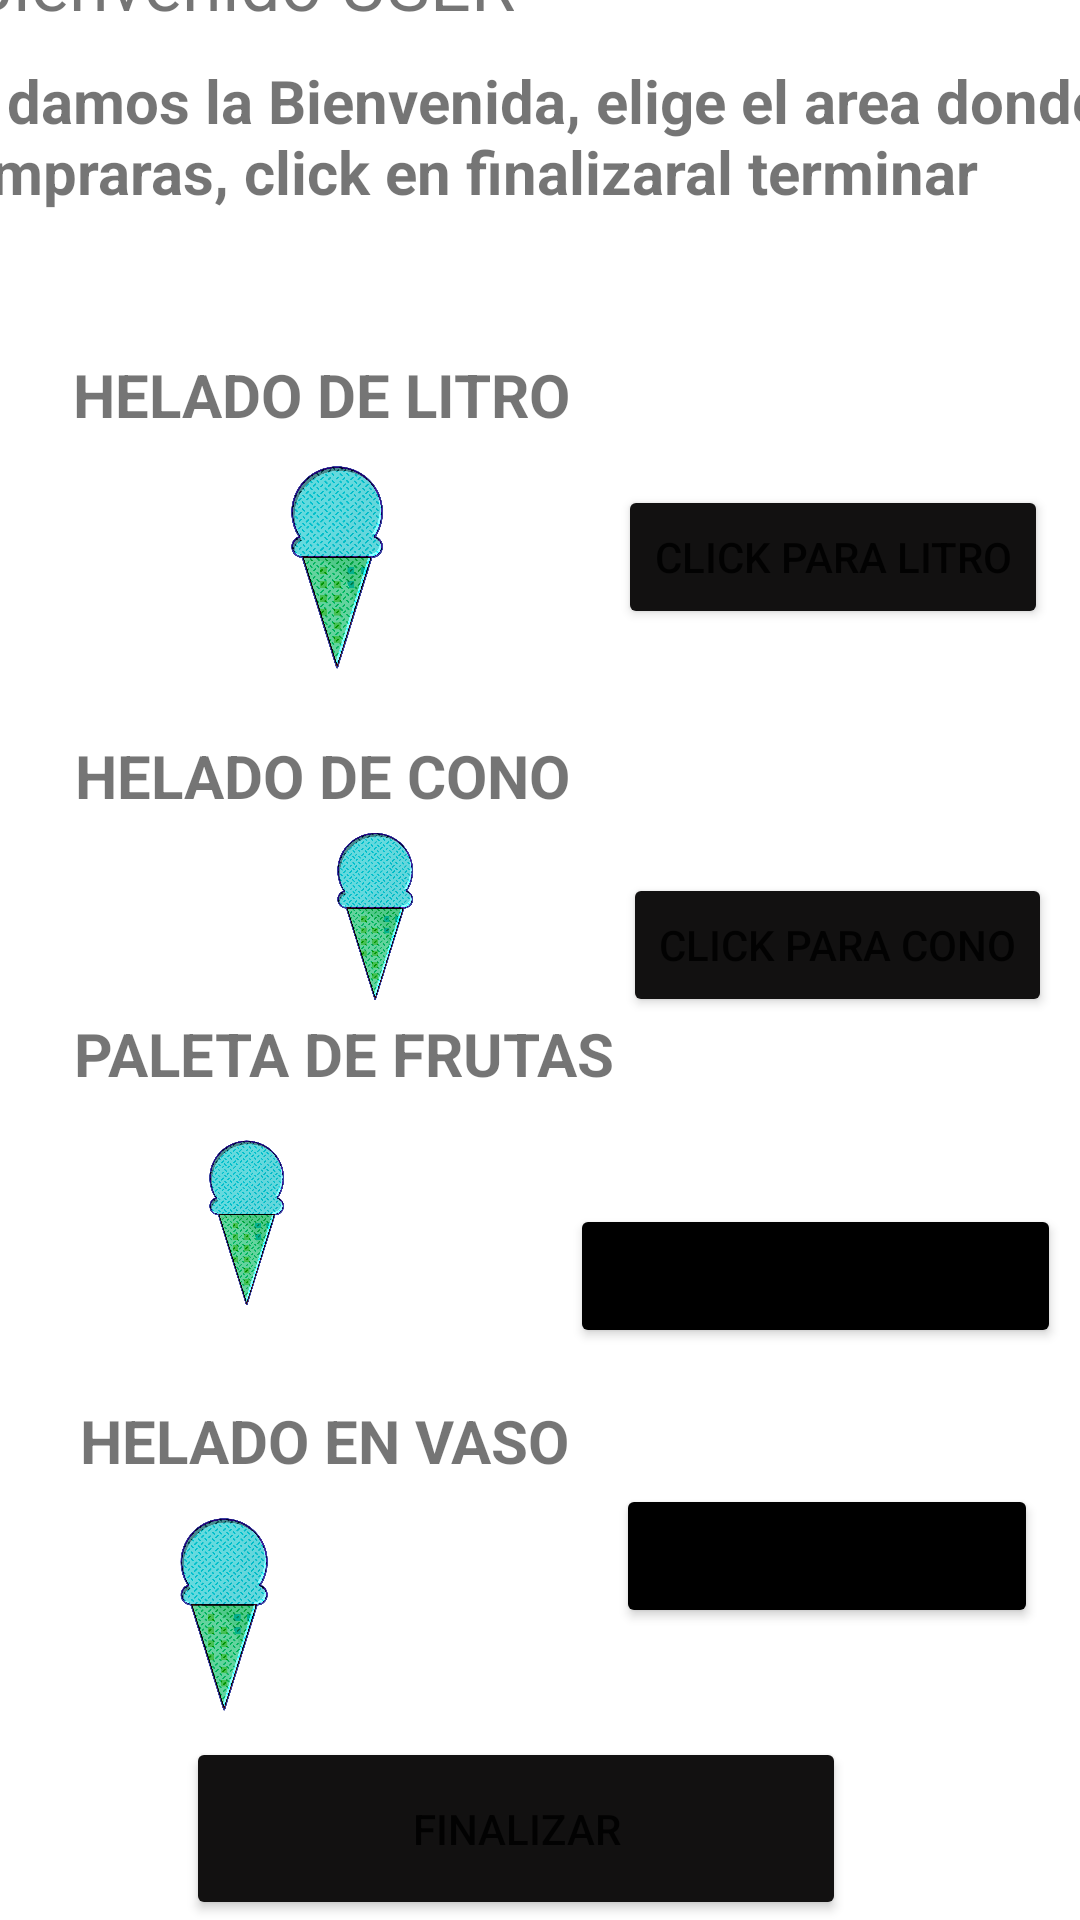

Where icons sit on this 1080 × 1920 app screen, as box(x1, y1, x2, y2):
icecream: box(291, 466, 383, 669), box(337, 833, 413, 1000), box(209, 1140, 284, 1305), box(180, 1518, 268, 1711)
